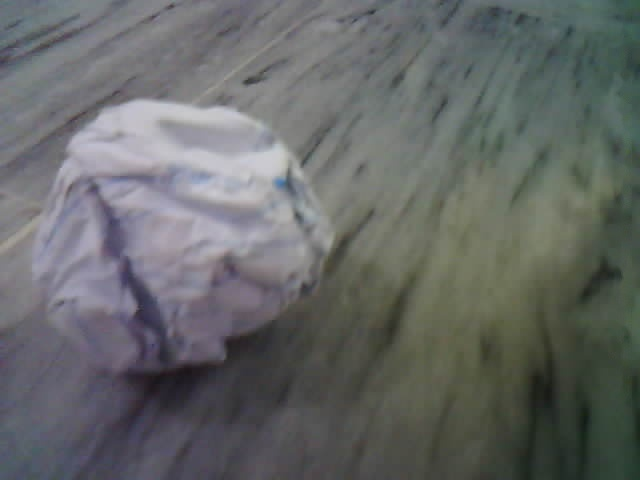paper: (40, 100, 340, 375)
